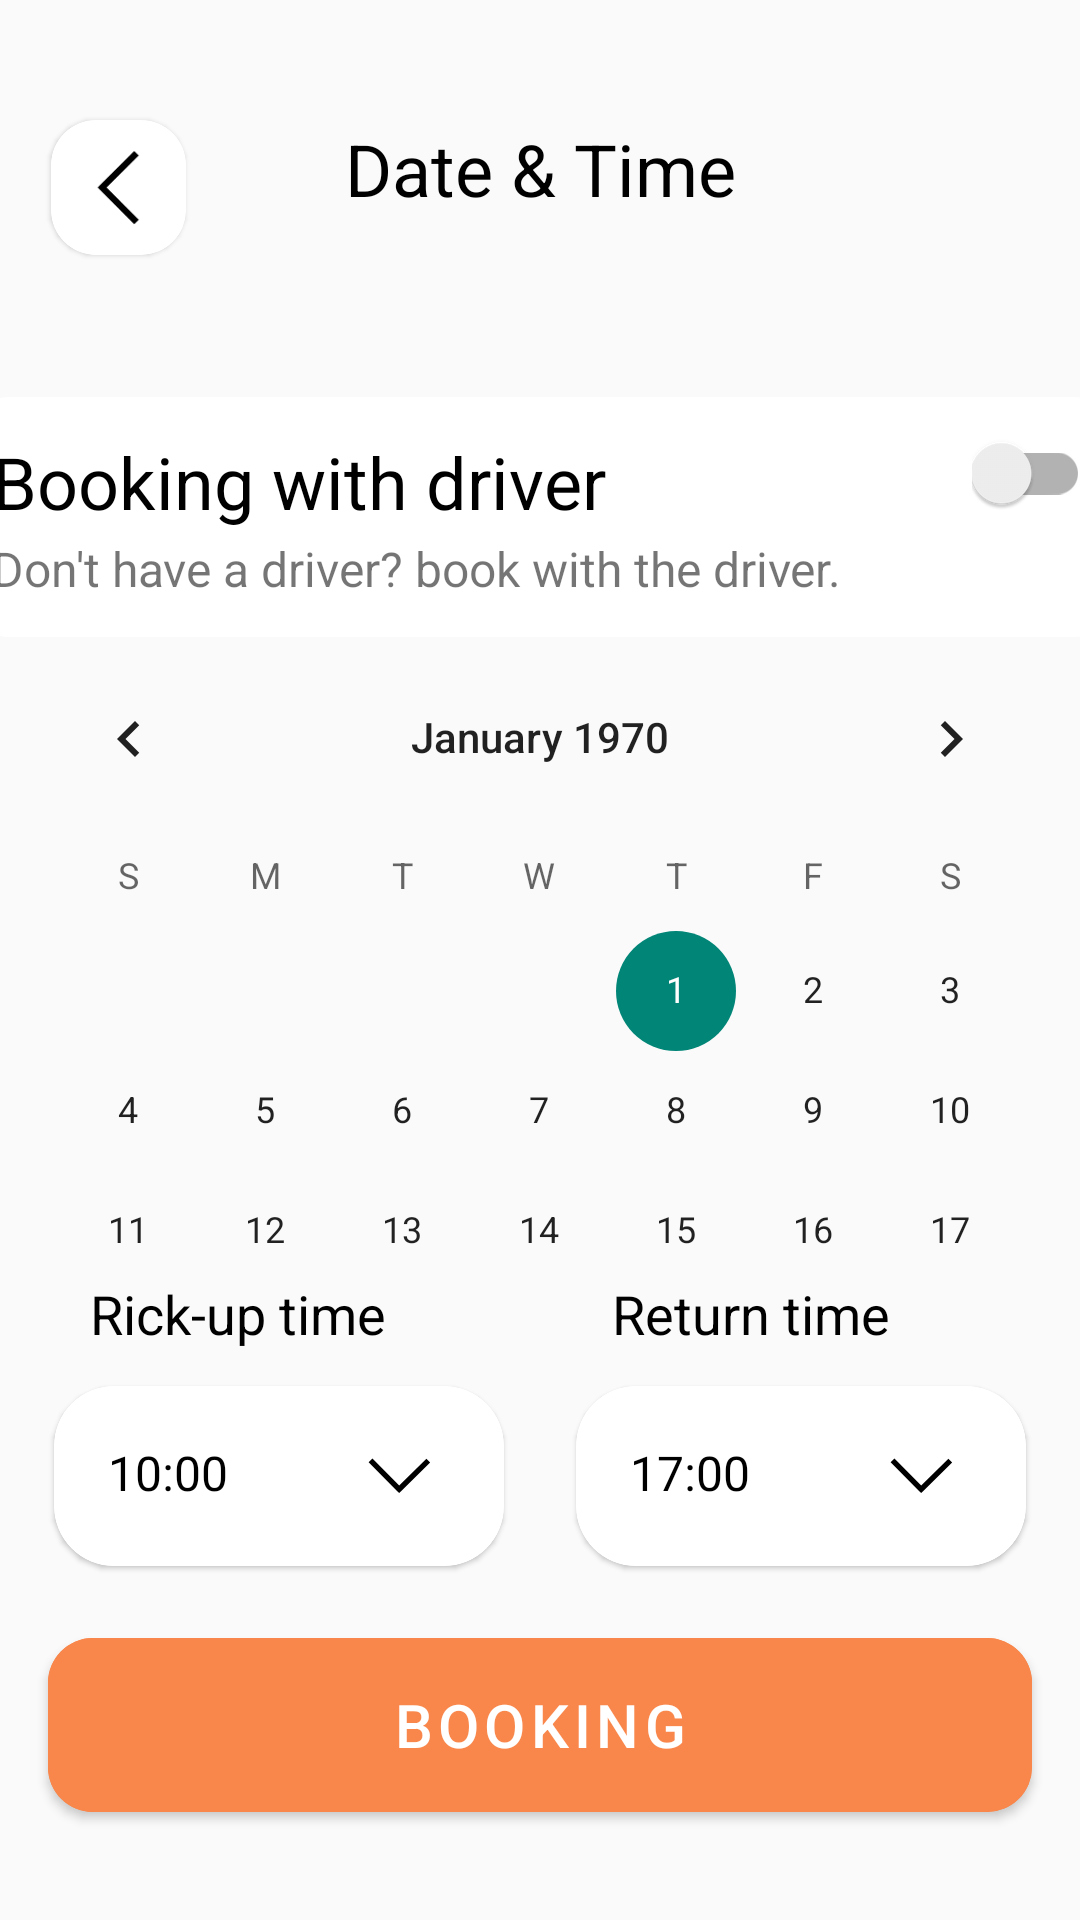

Named icons in this screenshot (1080x1920) and their bounding boxes, (x1, y1, x2, y2):
arrow: (97, 151, 139, 224)
arrow way down: (368, 1458, 430, 1493), (890, 1458, 952, 1493)
